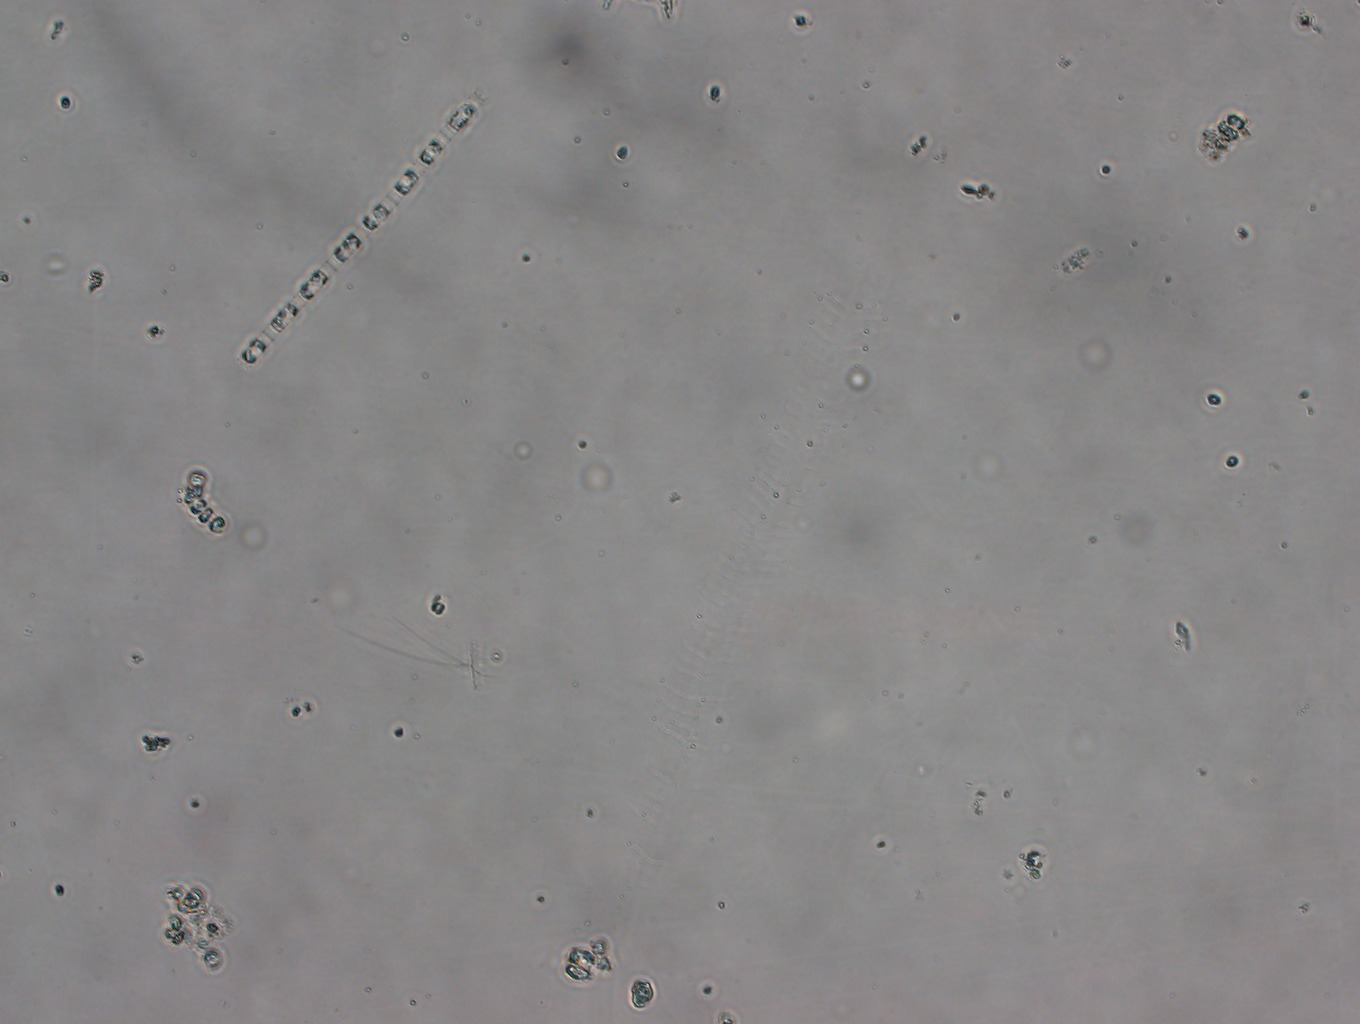skeletonema: (224, 93, 485, 375)
